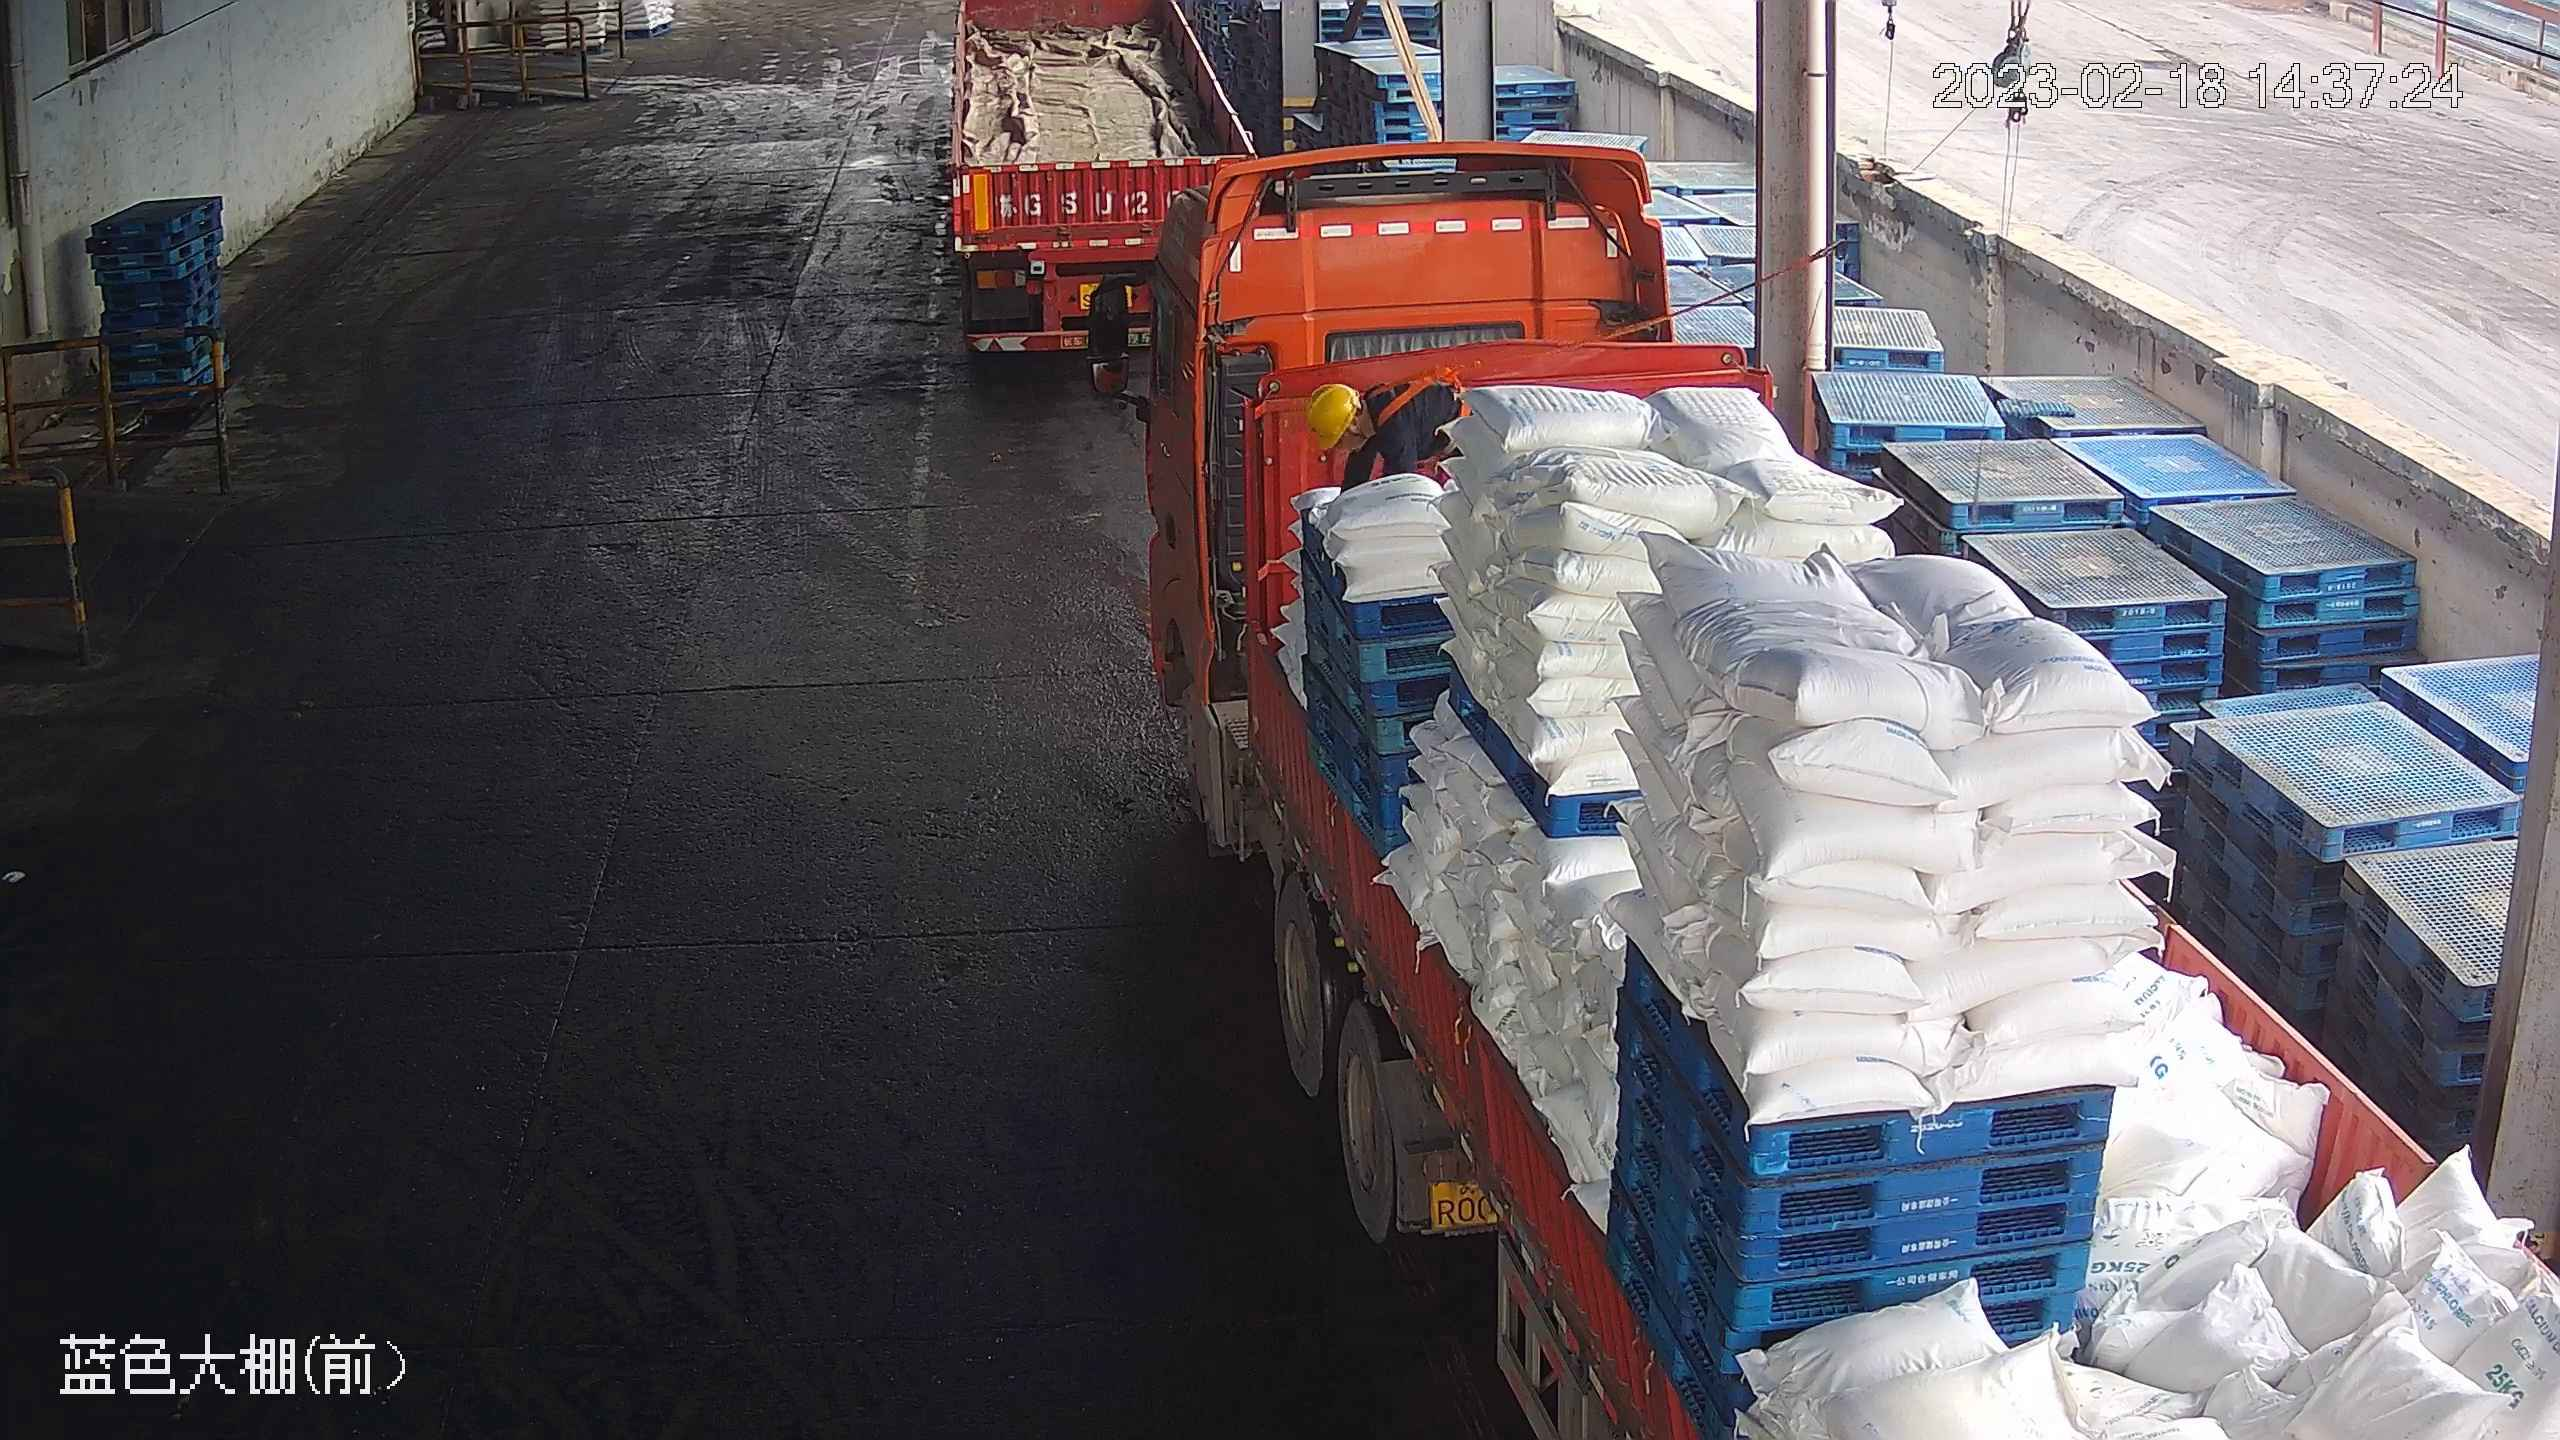belt: (1364, 367, 1451, 421)
head: (1303, 375, 1410, 461)
helmet: (1303, 377, 1357, 450)
truck: (1137, 153, 2553, 1439), (939, 2, 1255, 388)
